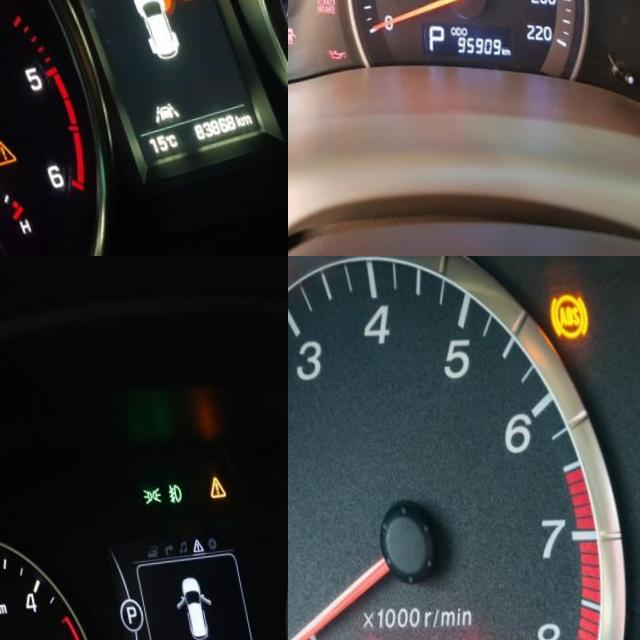Central Warning lamp: (195, 479, 215, 504)
FrontFogLight: (154, 487, 171, 508)
SideLamp: (129, 489, 150, 508)
